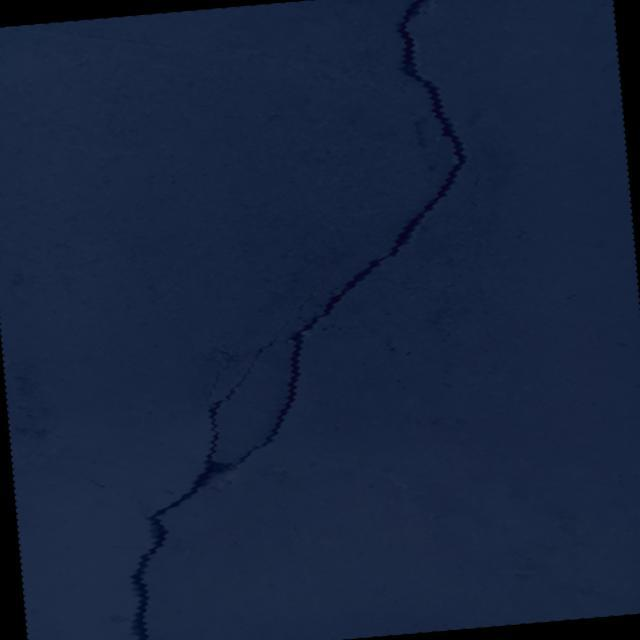crack: (76, 0, 509, 640)
